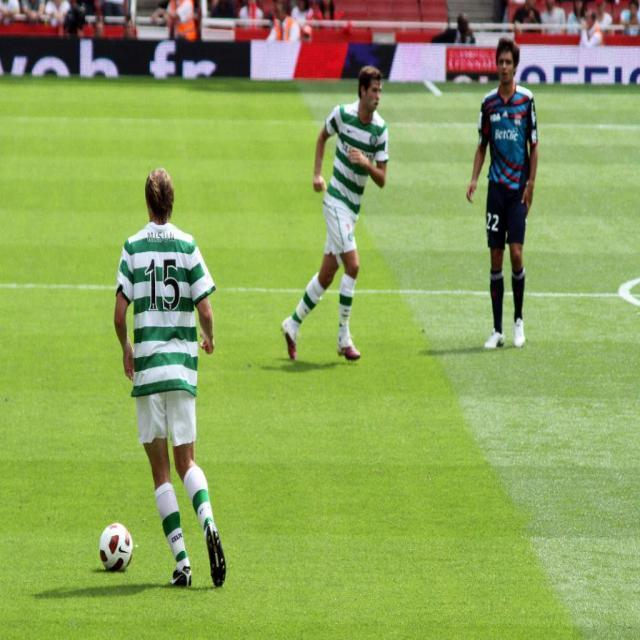football: (94, 513, 149, 584)
